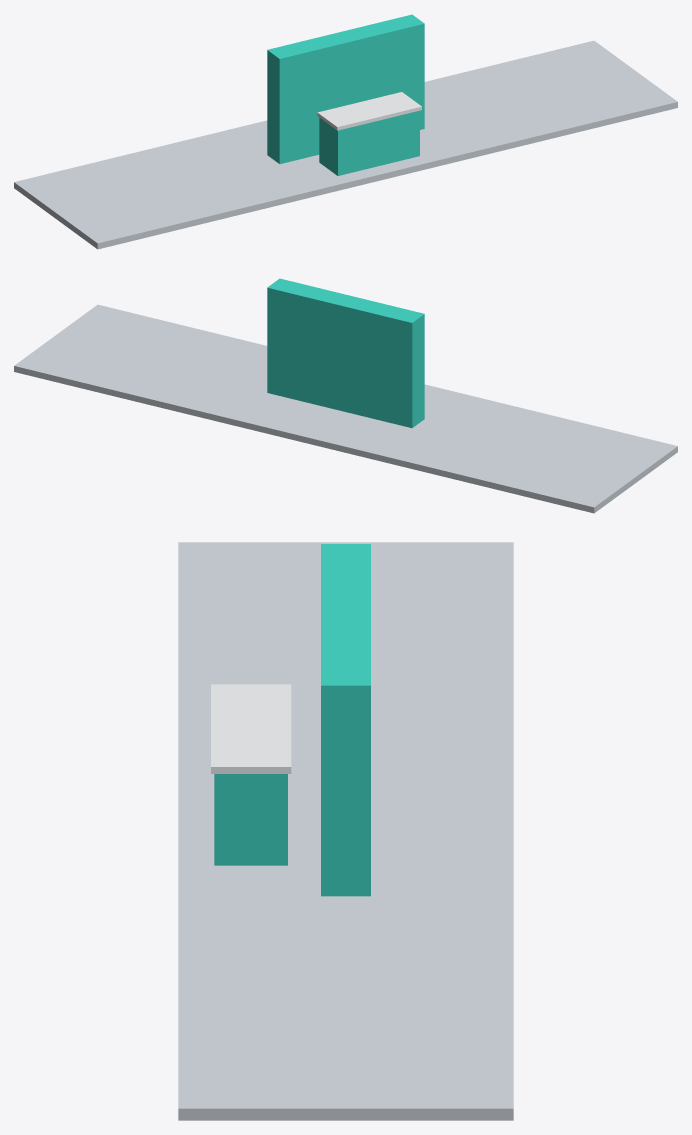
3 renders of one model, top to bottom at view 1: azimuth 30°, elevation 25°; view 2: azimuth 150°, elevation 25°; view 3: azimuth 270°, elevation 25°, orthographic. The views are drawn at different scales.
Visible parts, largest first — view 1: Exhibition Booth Concept; view 2: Exhibition Booth Concept; view 3: Exhibition Booth Concept.
Boxes of the visible parts, left/top/right/bottom form: Exhibition Booth Concept: left=14, top=14, right=677, bottom=249; Exhibition Booth Concept: left=14, top=278, right=677, bottom=513; Exhibition Booth Concept: left=178, top=542, right=513, bottom=1120.
Bounding box in the file's own units: 12 × 2.2 × 3.
